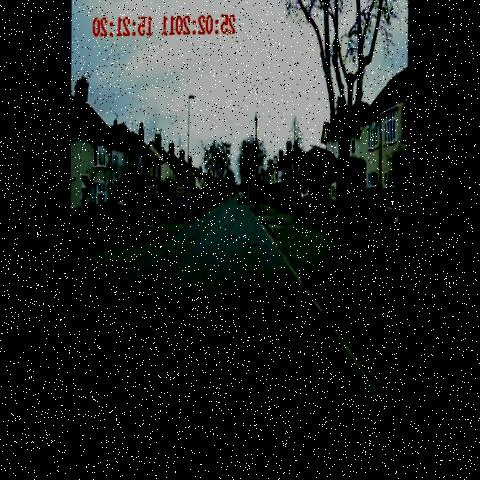pothole: (186, 287, 220, 322), (243, 234, 265, 257), (223, 226, 240, 246)
